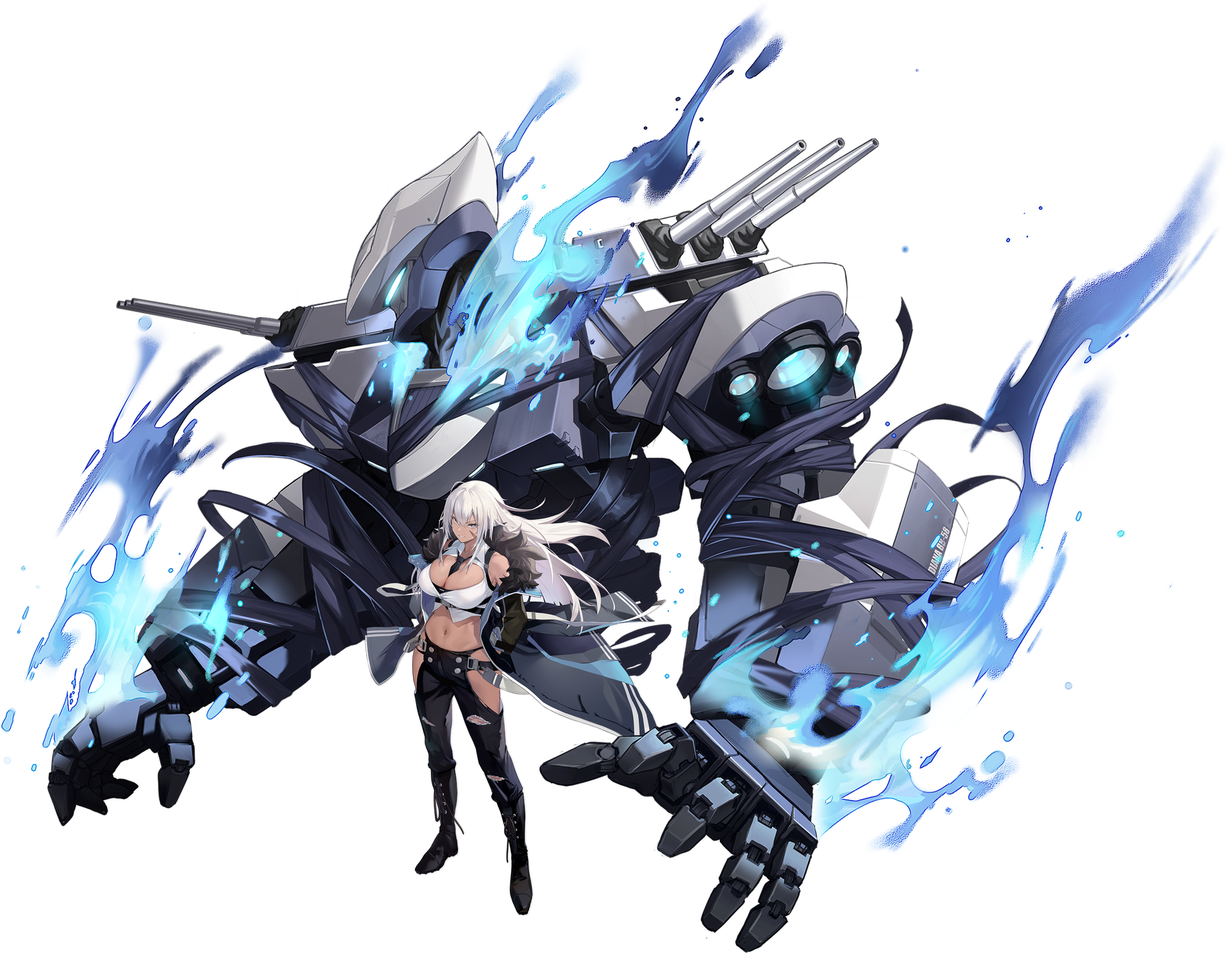person: (347, 458, 664, 922)
